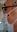with_mask: (1, 1, 17, 32)
